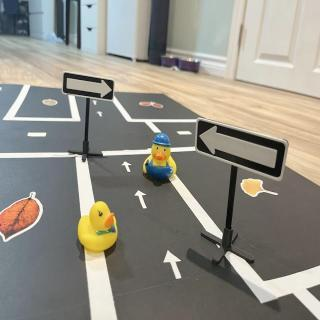duck_regular: (77, 201, 119, 255)
duck_specialty: (142, 132, 178, 184)
road_oneway: (164, 245, 188, 284), (135, 187, 150, 212), (122, 158, 132, 176), (97, 111, 105, 121), (94, 100, 100, 108)
sign_oneway_left: (196, 117, 292, 185)
sign_oneway_right: (62, 73, 116, 102)
